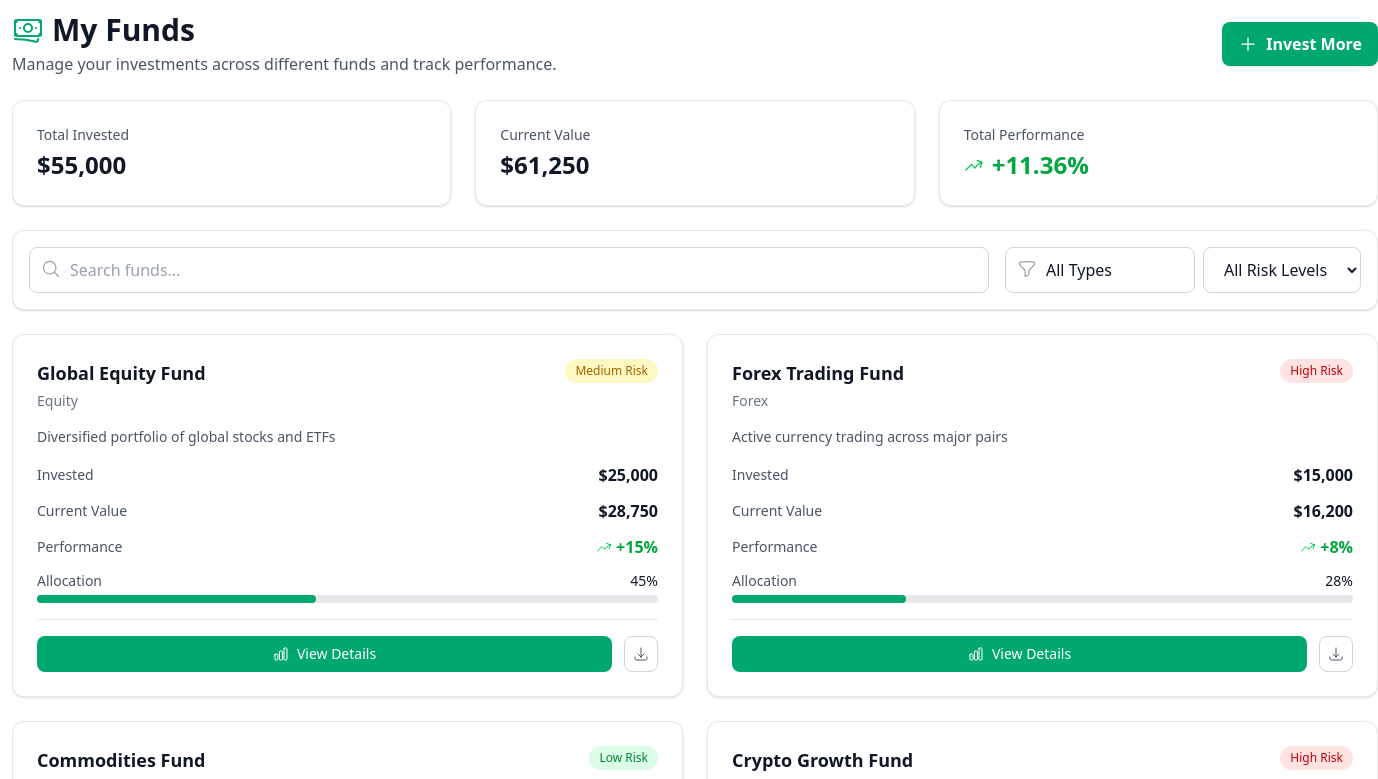
Test: FundsPage › filters funds by search term
The width and height of the screenshot is (1378, 779).
Type "Crypto" into the field with placeholder "Search funds..." at (509, 270), box left=29, top=247, right=989, bottom=293
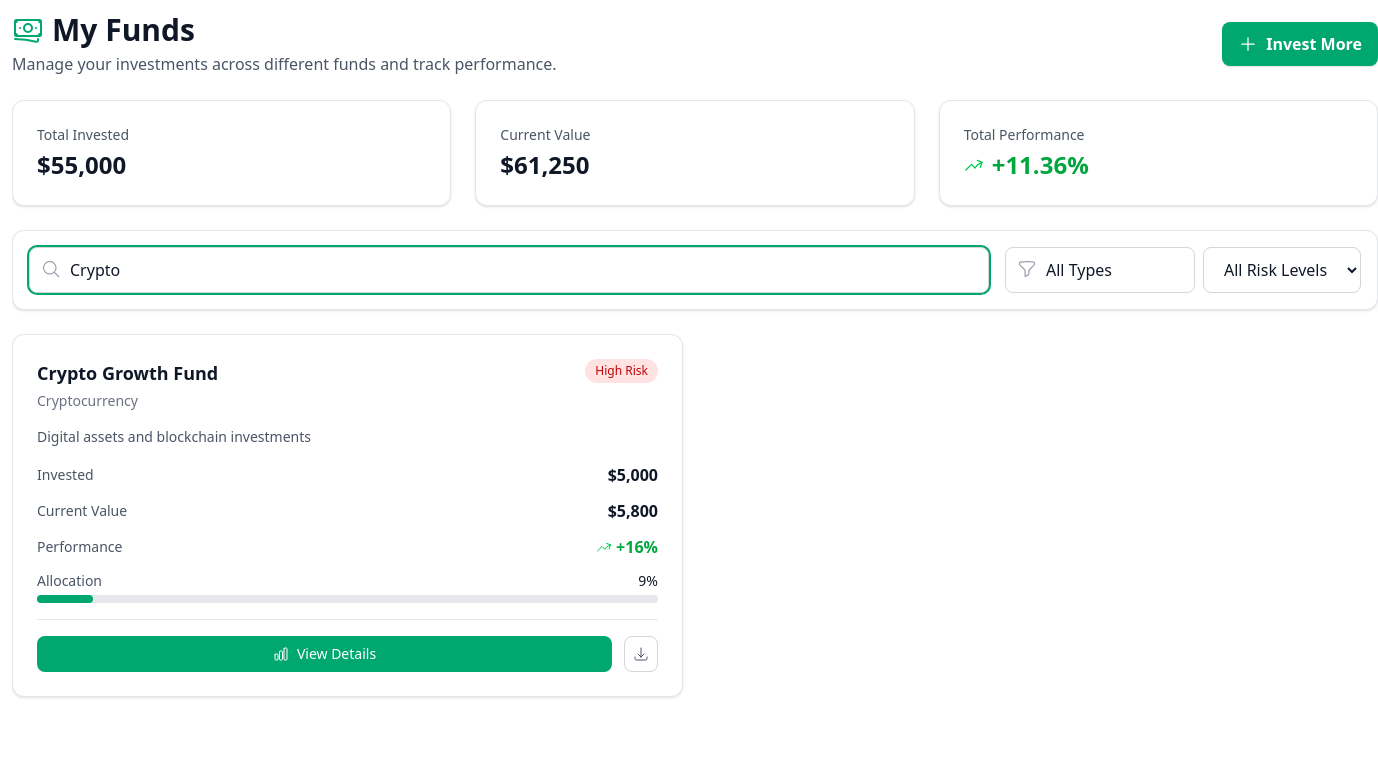
Expected: the heading "Crypto Growth Fund" is shown, left=37, top=359, right=218, bottom=387
Expected: the heading "Global Equity Fund" is gone
